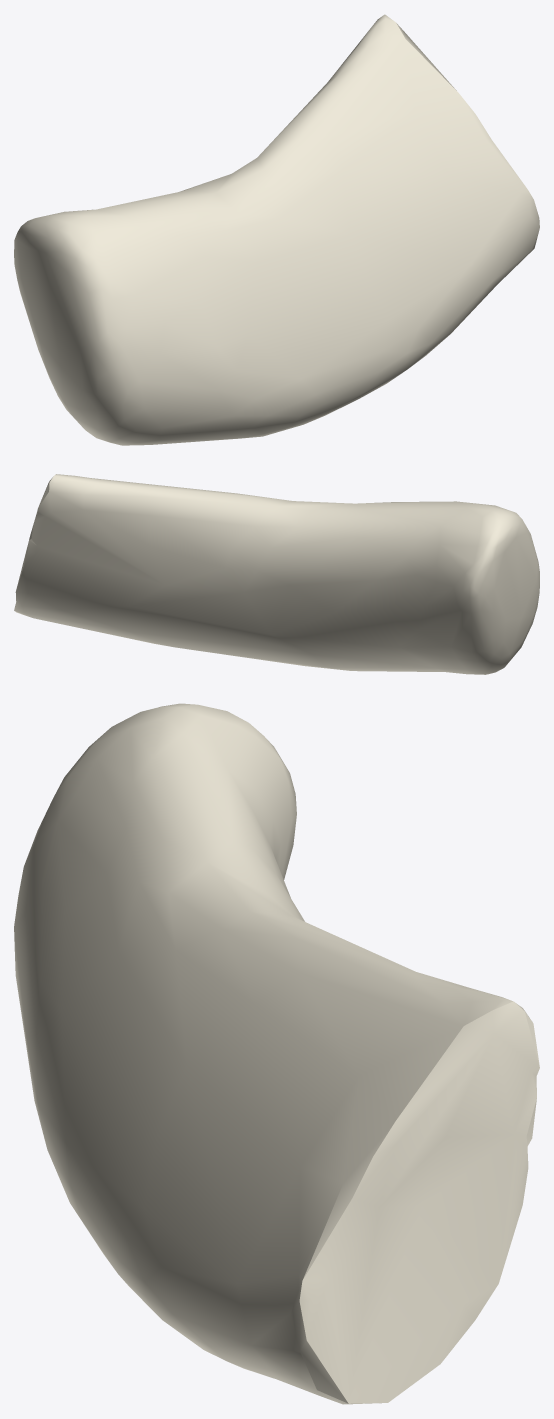
File: fma8031_fj3242.glb
3 renders of one model, top to bottom at view 1: azimuth 30°, elevation 25°; view 2: azimuth 150°, elevation 25°; view 3: azimuth 270°, elevation 25°, orthographic. The views are drawn at different scales.
Visible parts, largest first — view 1: FMA8031_FJ3242; view 2: FMA8031_FJ3242; view 3: FMA8031_FJ3242.
Boxes of the visible parts, x1,y1,x2,y2 form: FMA8031_FJ3242: [14, 14, 539, 445]; FMA8031_FJ3242: [14, 474, 539, 674]; FMA8031_FJ3242: [14, 703, 539, 1404].
Bounding box in the file's own units: 0.0379 × 0.0178 × 0.0205.
